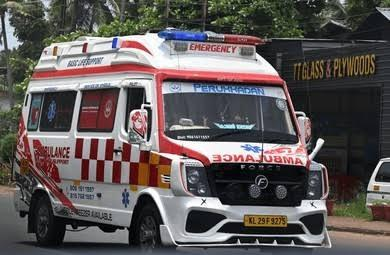ambulance: (14, 25, 331, 251)
